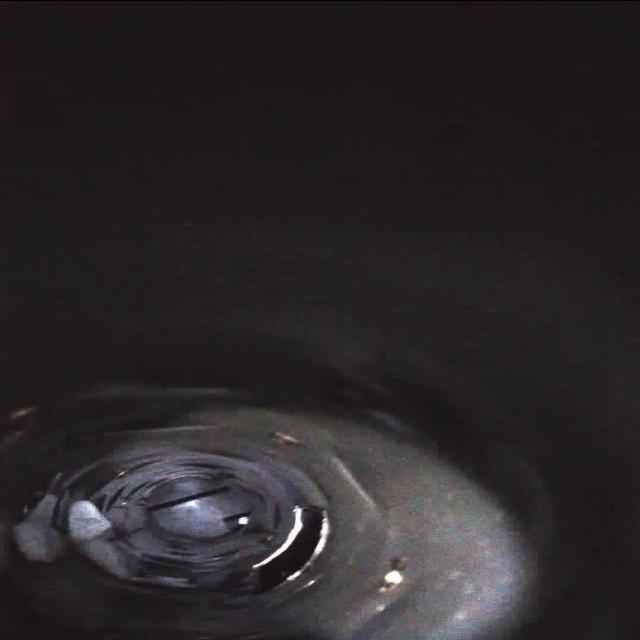crack: (178, 446, 256, 476), (108, 448, 184, 478), (140, 551, 198, 589), (86, 479, 142, 516), (210, 544, 248, 588), (98, 514, 146, 546), (265, 488, 289, 532)
hole: (252, 504, 342, 591)
